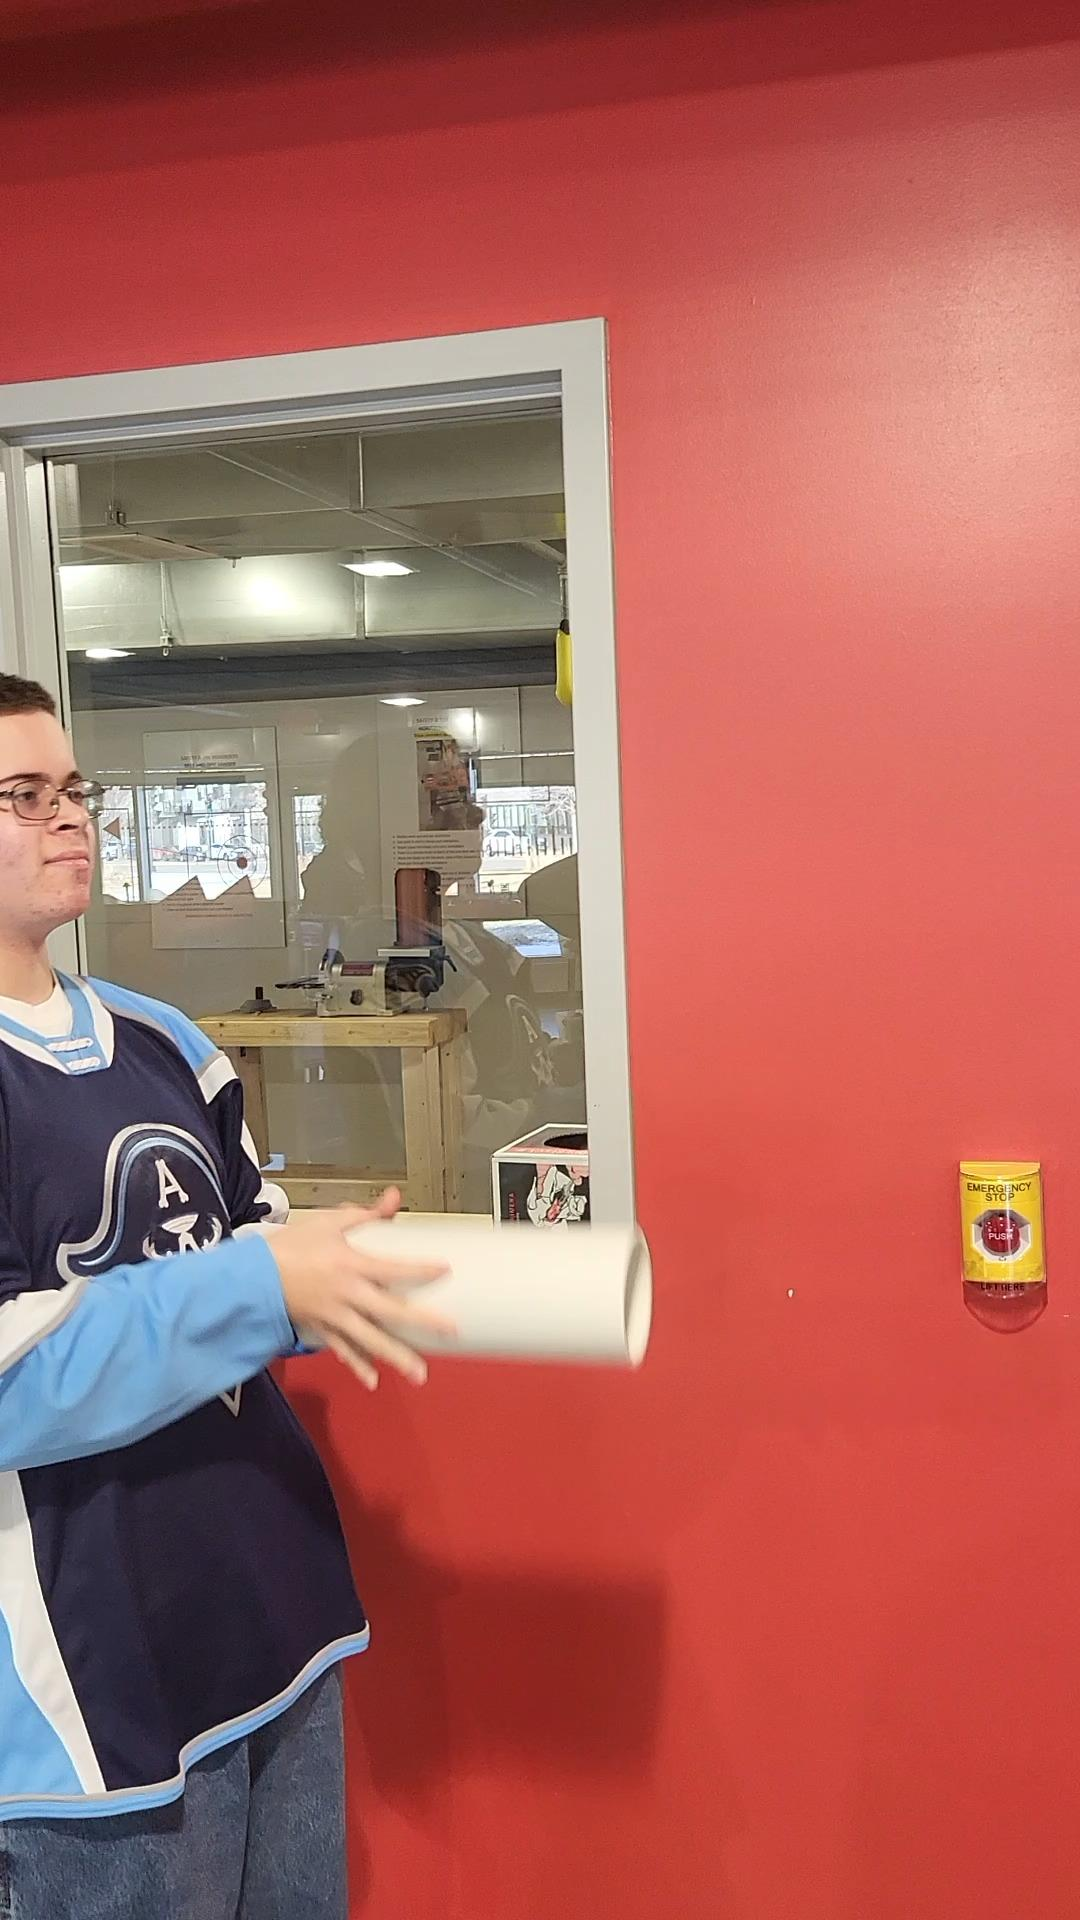coral: (301, 1204, 670, 1370)
